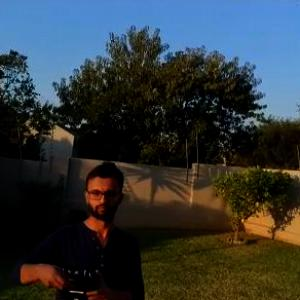follow: (3, 151, 146, 299)
